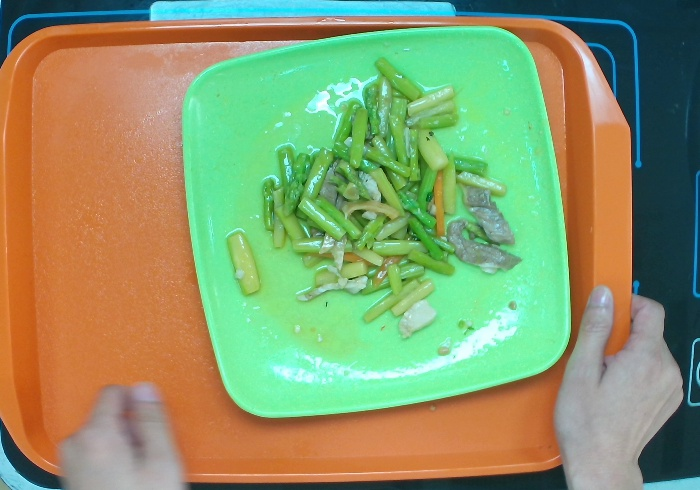ZNLD-Lv_Fang_Pan: (180, 24, 573, 419)
